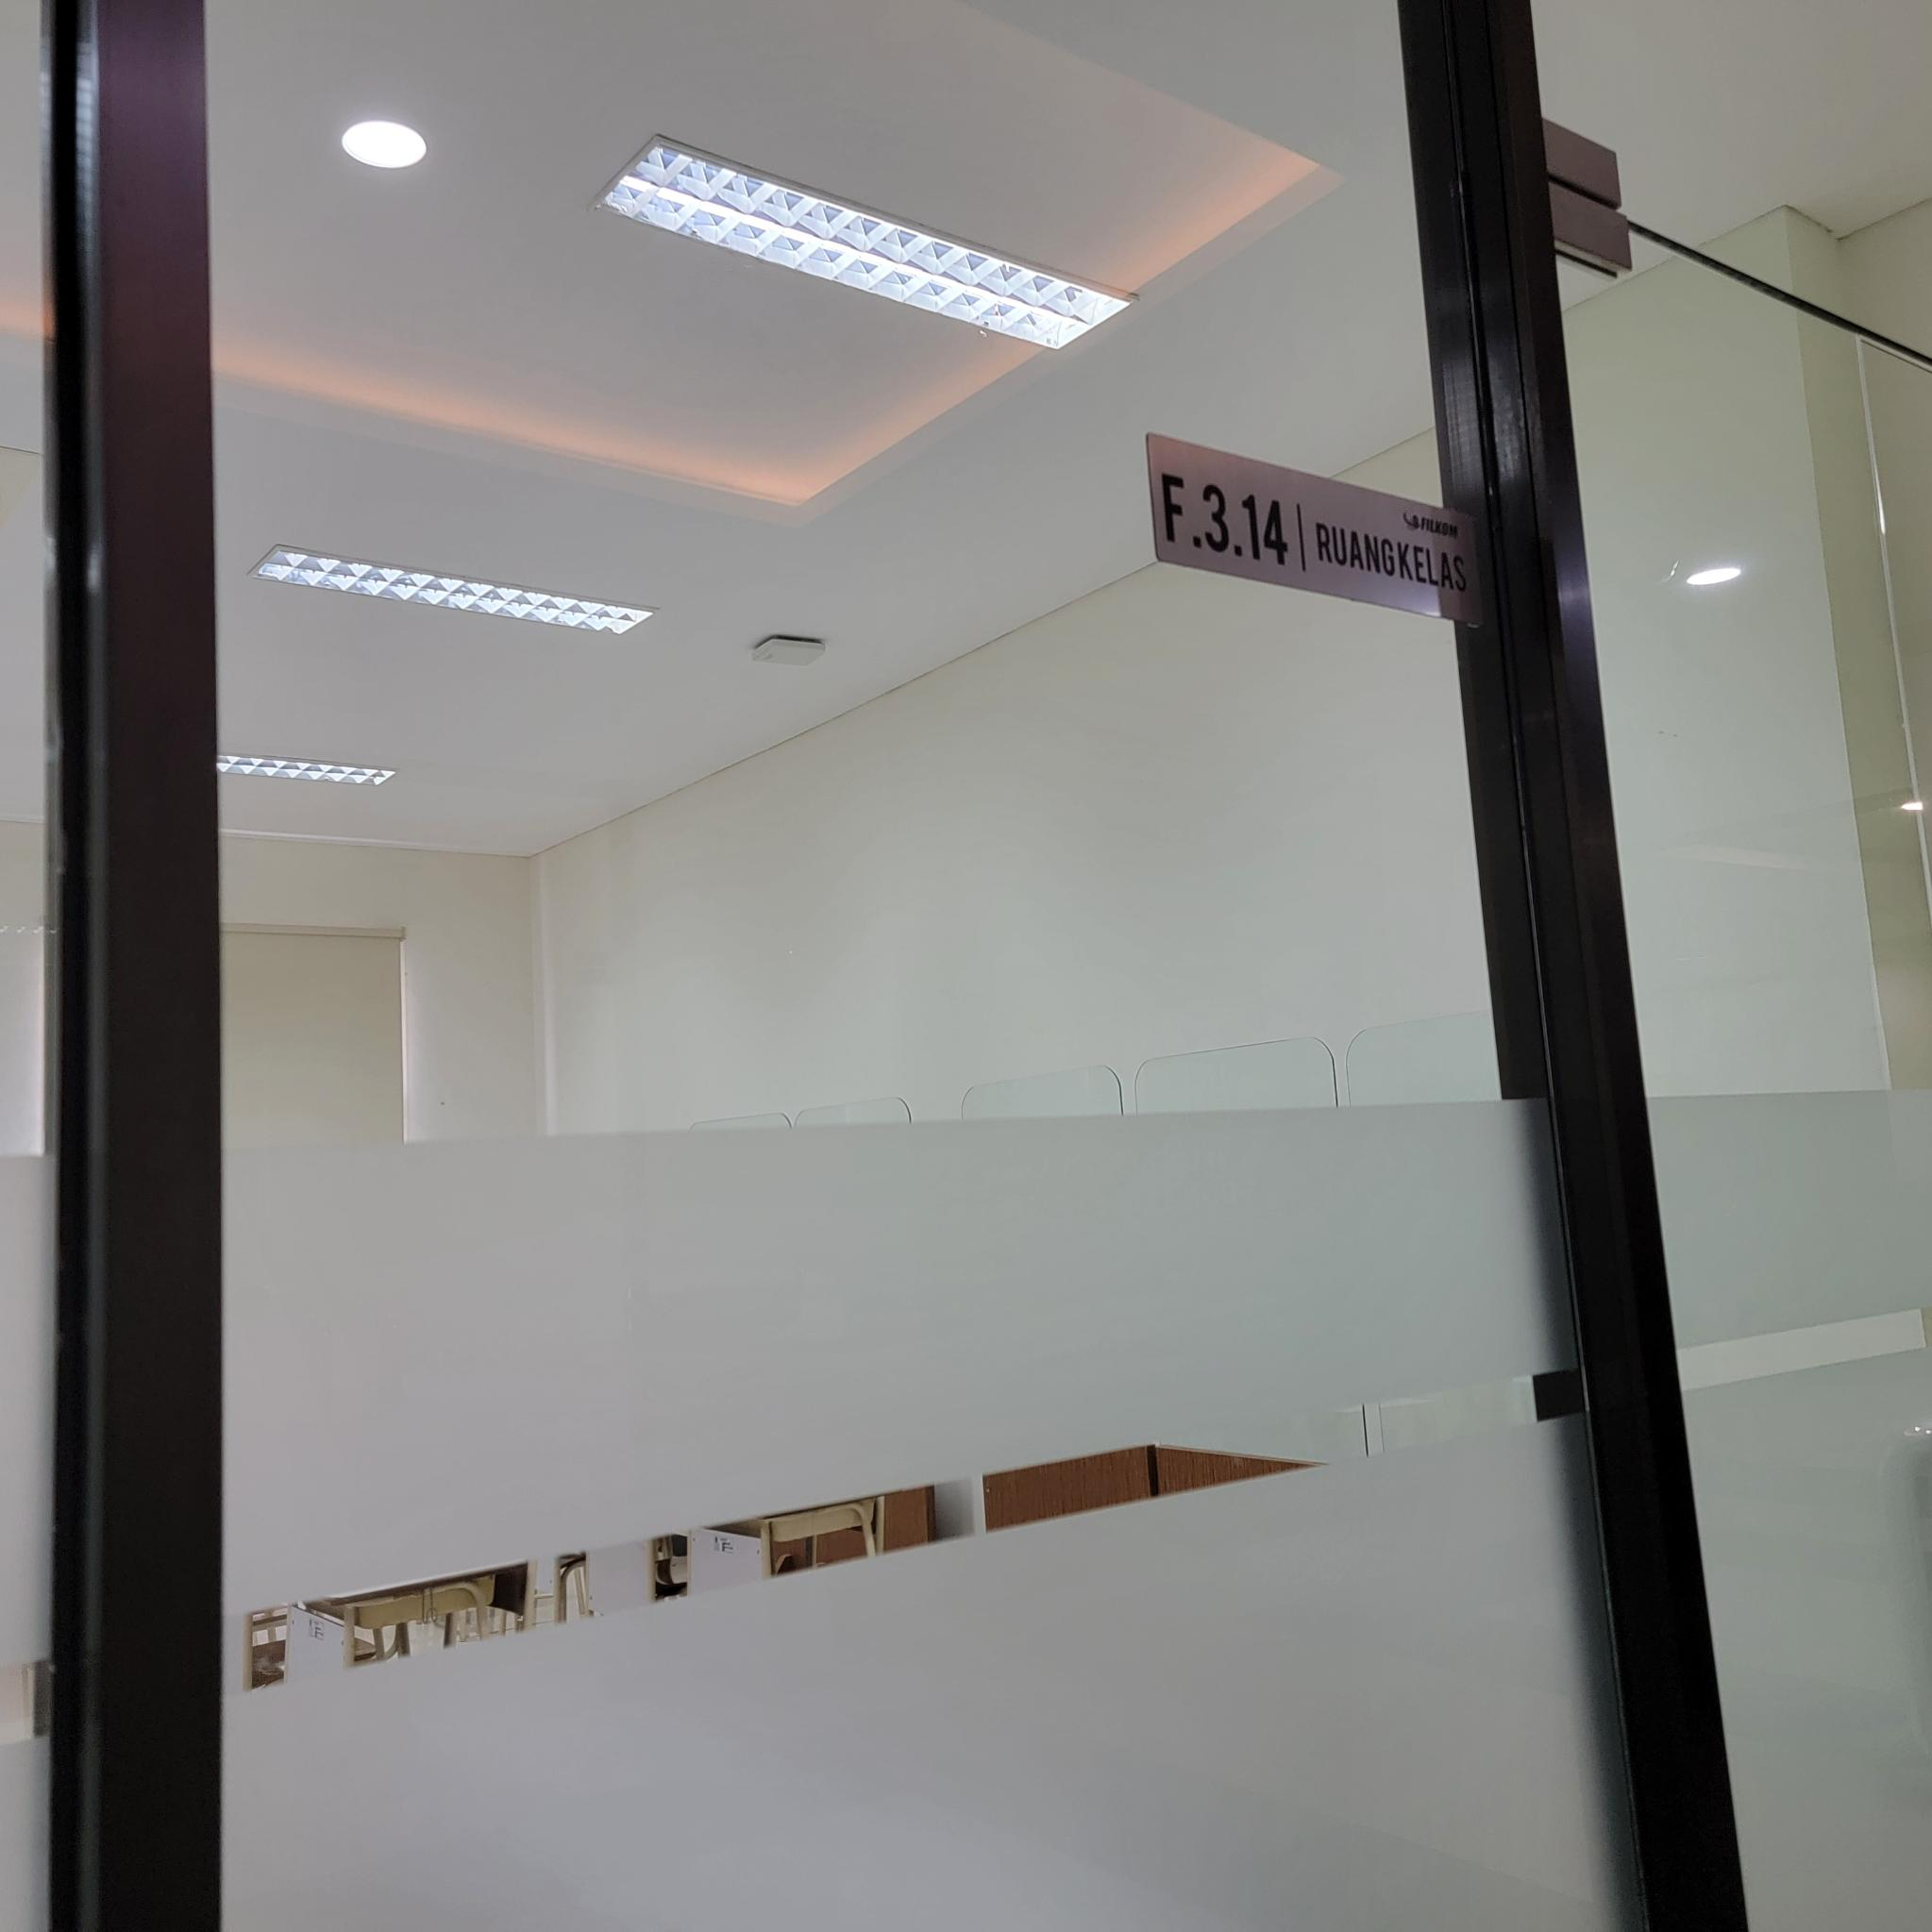plate: (1148, 432, 1488, 630)
